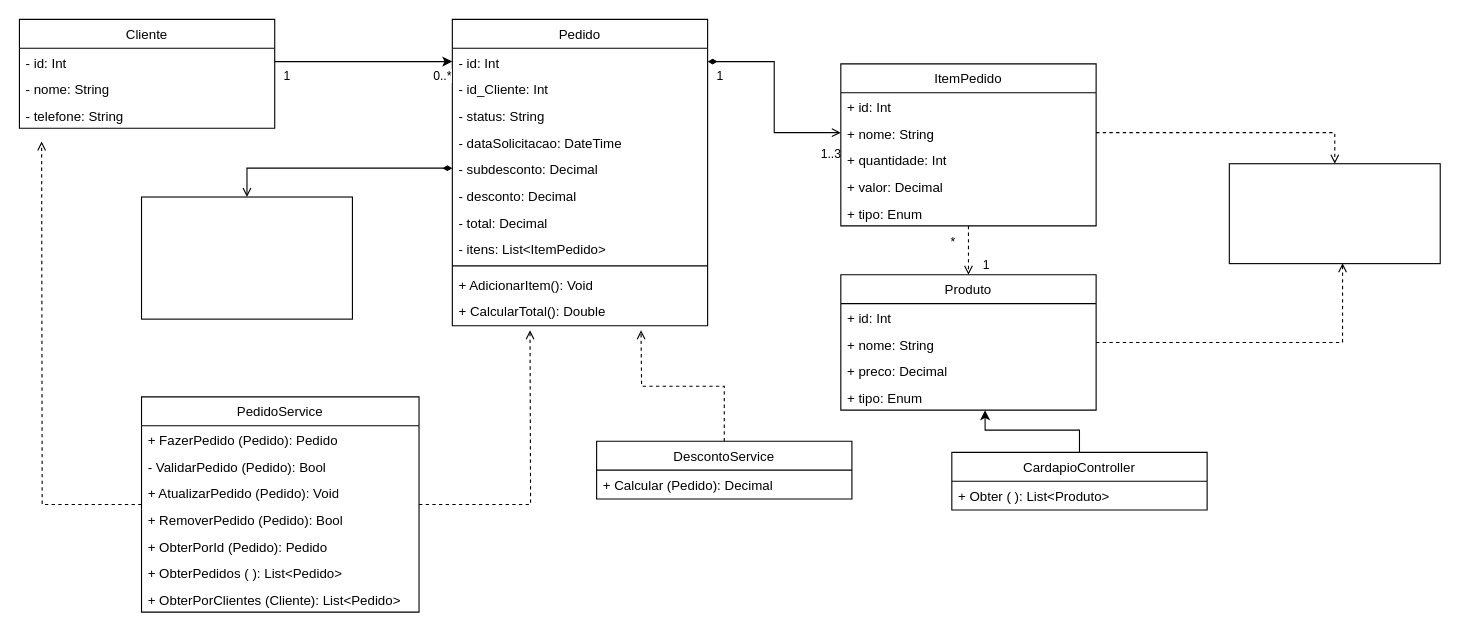
Some shapes in this 1460 by 635 pixel diagram are drawn without their labels. The shapes that lost their labels are listed below. From the top down, each one's centre as x and y in pixels, then its label:
At (1334,213): "<<Enum>> TipoItem Sanduiche Batata Refrigerante".
At (246,257): "<<Enum>> Status Aguardando Preparando Entregue Cancelado".
